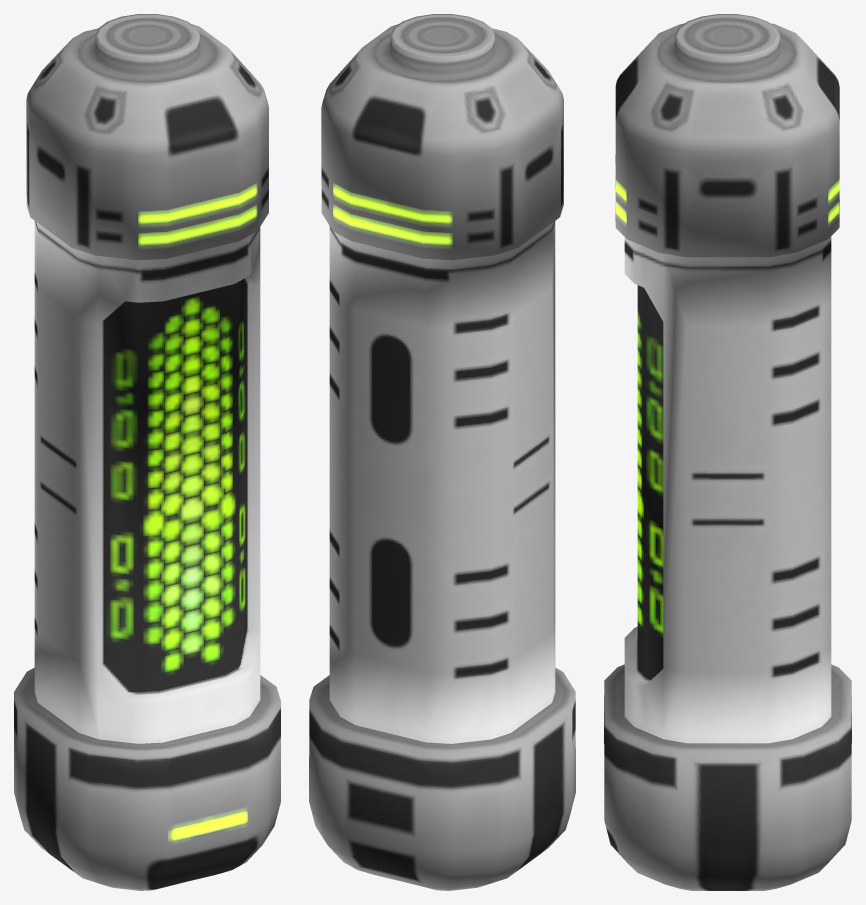
The model's file is LabTubes02_6.FBX.
The picture shows the model from 3 angles, left to right: view 1: azimuth 30°, elevation 25°; view 2: azimuth 150°, elevation 25°; view 3: azimuth 270°, elevation 25°; orthographic projection.
Parts seen in each view (by area): view 1: LabTubes02_6; view 2: LabTubes02_6; view 3: LabTubes02_6.
Part boxes in pixels (x1,y1,x2,y2): LabTubes02_6: (14, 14, 280, 890); LabTubes02_6: (309, 14, 575, 890); LabTubes02_6: (604, 14, 851, 890).
Size of what is drawn, in the model's own units: 0.088 by 0.3261 by 0.0883.
